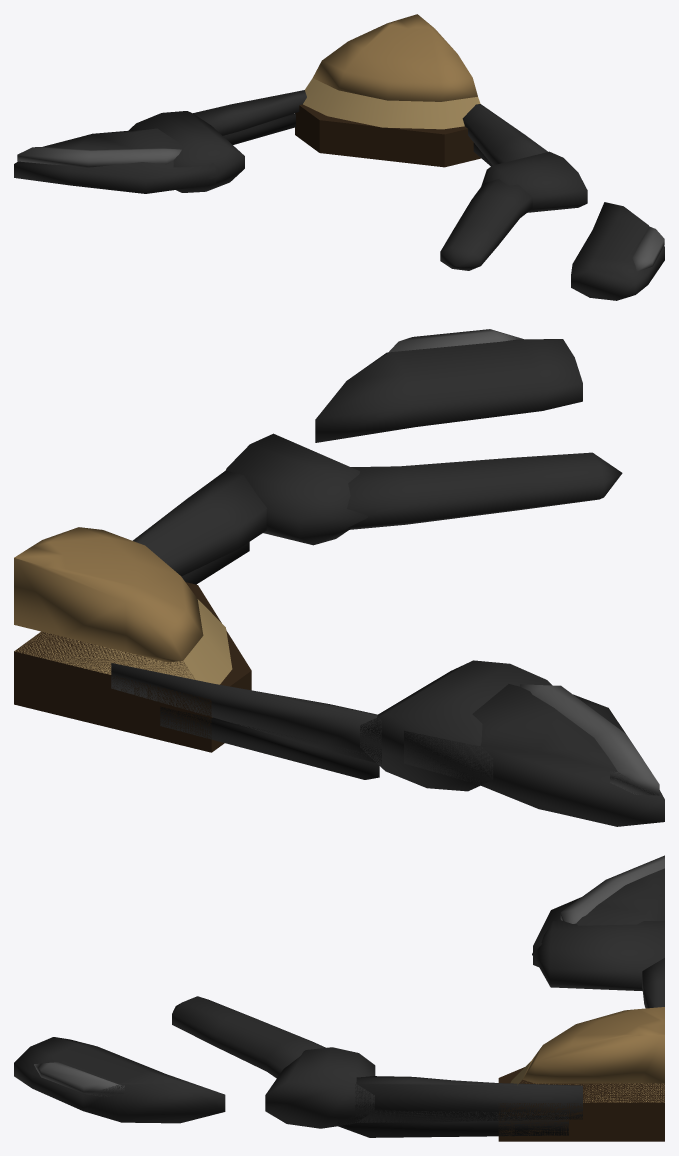
The model's file is newsh-hash-39-f6.glb.
The picture shows the model from 3 angles, top to bottom: view 1: azimuth 30°, elevation 25°; view 2: azimuth 150°, elevation 25°; view 3: azimuth 270°, elevation 25°; orthographic projection. The views are drawn at different scales.
Visible parts, largest first — view 1: newsh-hash-39-f6; view 2: newsh-hash-39-f6; view 3: newsh-hash-39-f6.
Part boxes in pixels (x1,y1,x2,y2): newsh-hash-39-f6: (14, 14, 664, 300); newsh-hash-39-f6: (14, 329, 664, 826); newsh-hash-39-f6: (14, 855, 664, 1141).
Size of the model in its own units: 1.28 by 0.2763 by 1.52.
